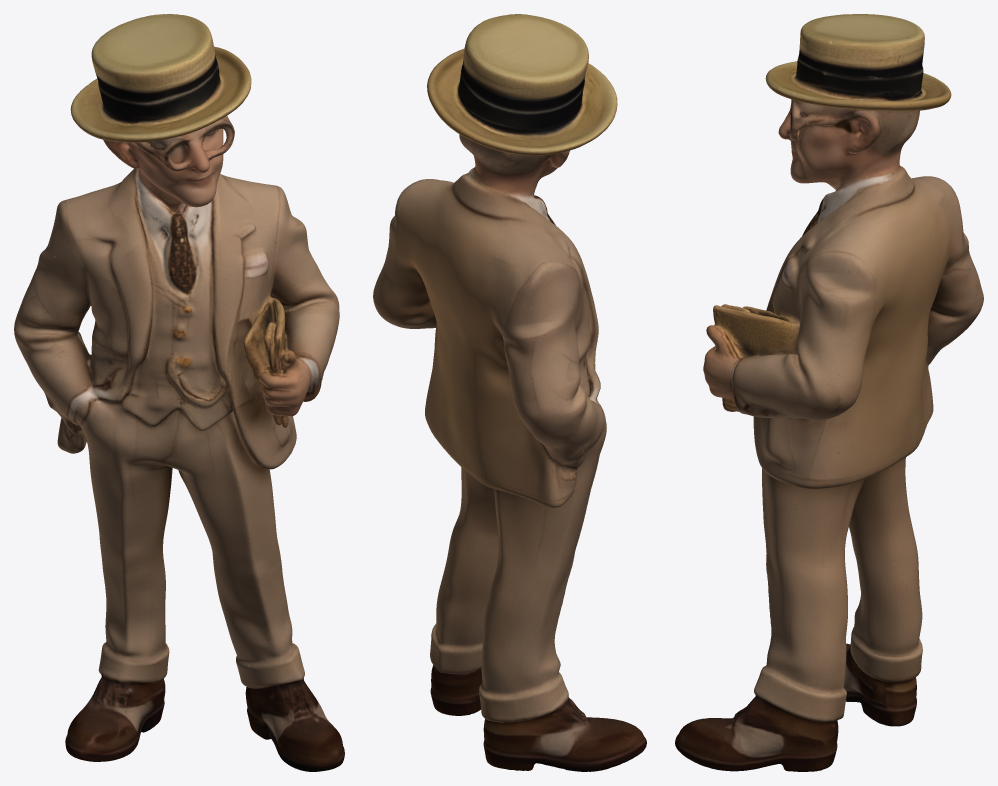
Rendered from Lord-Livermore-Copilot.glb.
3 views of the same model, side by side, from view 1: azimuth 30°, elevation 25°; view 2: azimuth 150°, elevation 25°; view 3: azimuth 270°, elevation 25° (orthographic). The views are drawn at different scales.
Parts seen in each view (by area): view 1: world; view 2: world; view 3: world.
Boxes of the visible parts, x1,y1,x2,y2 form: world: (14,14,344,771); world: (373,14,646,771); world: (675,14,983,771).
Bounding box in the file's own units: 0.3923 × 1 × 0.4014.
Materials: 1 (1 with a texture image).
